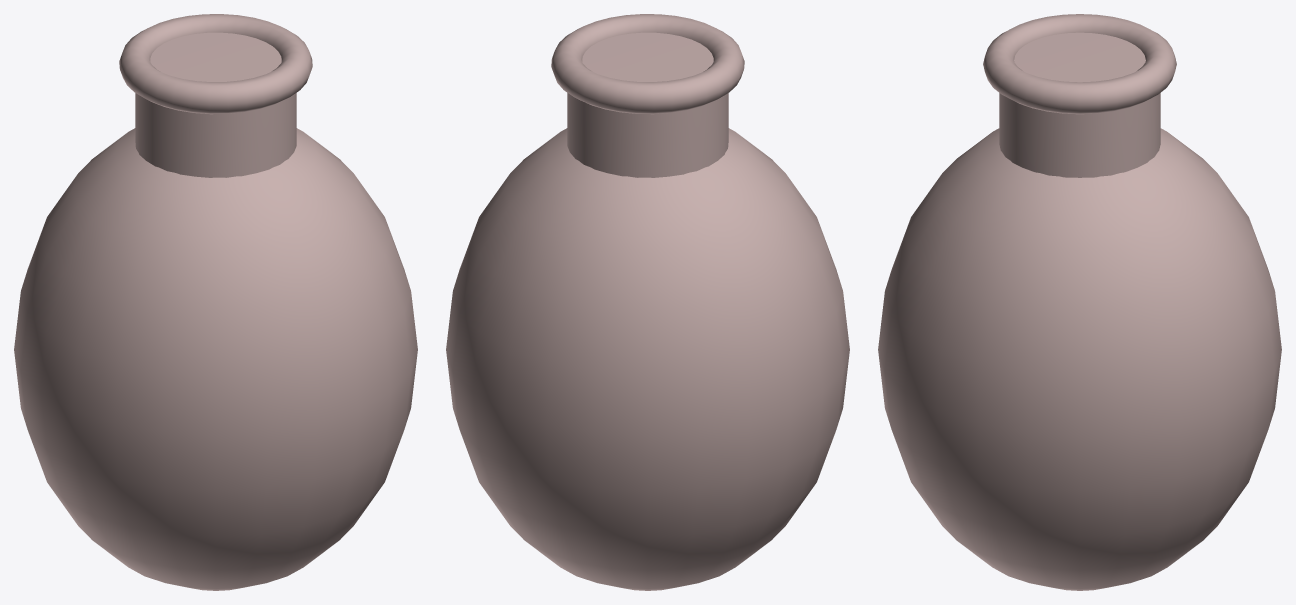
Rendered from japaneseVase.glb.
The picture shows the model from 3 angles, left to right: view 1: azimuth 30°, elevation 25°; view 2: azimuth 150°, elevation 25°; view 3: azimuth 270°, elevation 25°; orthographic projection.
Visible parts, largest first — view 1: Vase belly, Vase neck, Vase lip; view 2: Vase belly, Vase neck, Vase lip; view 3: Vase belly, Vase neck, Vase lip.
Part boxes in pixels (x1=…): Vase belly: x1=14, y1=128, x2=417, y2=590; Vase neck: x1=135, y1=32, x2=296, y2=177; Vase lip: x1=119, y1=14, x2=312, y2=114; Vase belly: x1=446, y1=128, x2=849, y2=590; Vase neck: x1=567, y1=32, x2=728, y2=177; Vase lip: x1=551, y1=14, x2=744, y2=114; Vase belly: x1=878, y1=128, x2=1281, y2=590; Vase neck: x1=999, y1=32, x2=1160, y2=177; Vase lip: x1=983, y1=14, x2=1176, y2=114.
Bounding box in the file's own units: 0.5 × 0.719 × 0.5.
